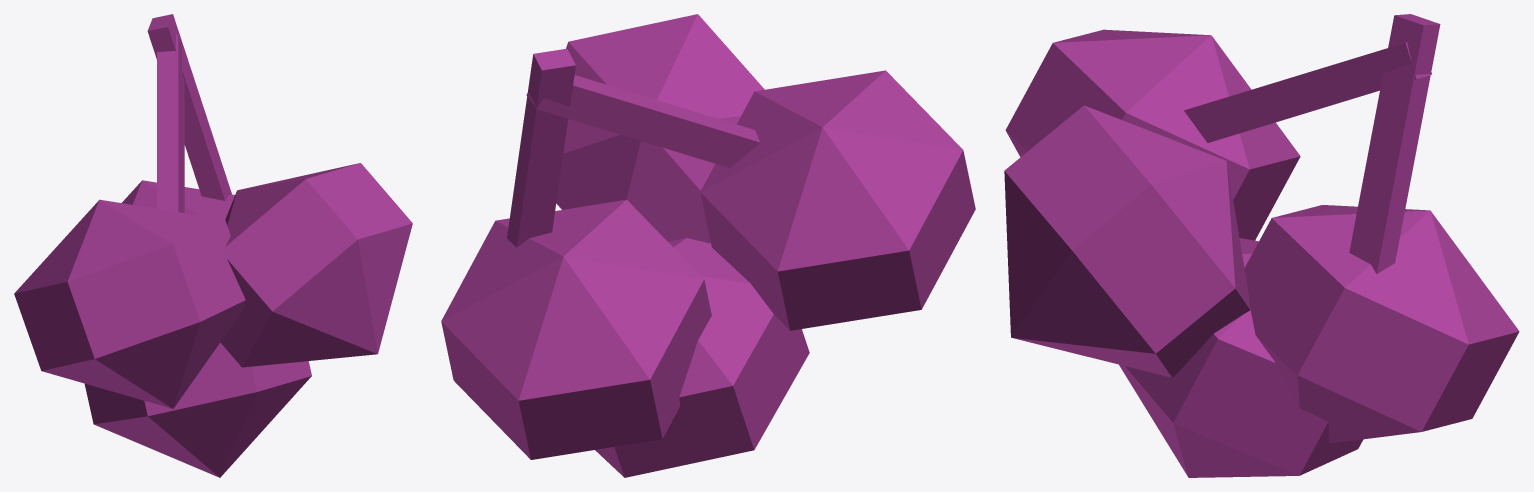
The model's file is Berries.fbx.
3 views of the same model, side by side, from view 1: azimuth 30°, elevation 25°; view 2: azimuth 150°, elevation 25°; view 3: azimuth 270°, elevation 25° (orthographic). The views are drawn at different scales.
Visible parts, largest first — view 1: polySurface34; view 2: polySurface34; view 3: polySurface34.
Part boxes in pixels (bbox=[...]): polySurface34: bbox=[14, 14, 412, 477]; polySurface34: bbox=[441, 14, 975, 477]; polySurface34: bbox=[1004, 14, 1519, 477].
Size of the model in its own units: 2.13 by 2.3 by 2.23.
